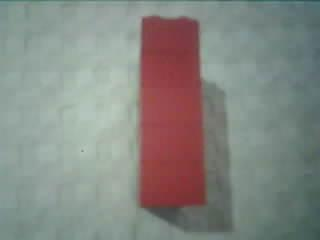lego: (137, 13, 205, 210)
